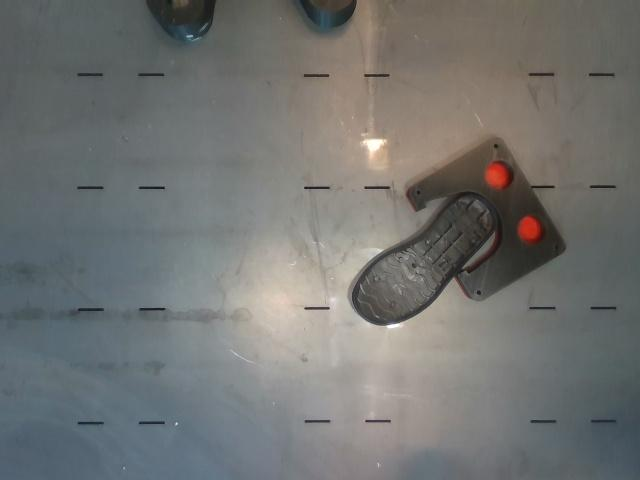shoes: (354, 193, 497, 325)
